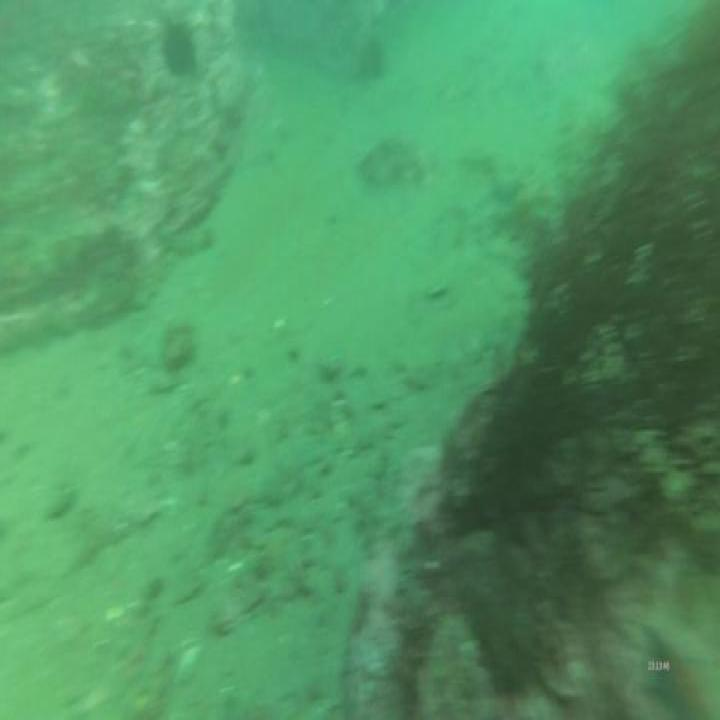echinus: (161, 18, 194, 80)
starfish: (630, 619, 693, 713)
